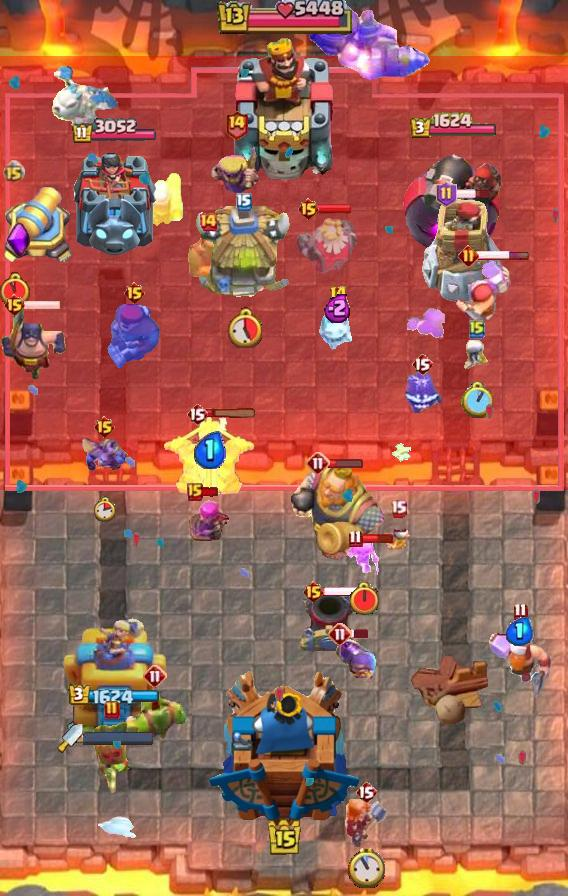arrows: (210, 145, 262, 195)
bar: (61, 615, 166, 731)
bat: (316, 303, 360, 353)
clock: (215, 0, 353, 36)
electro-spirit: (193, 431, 226, 469), (324, 293, 352, 323), (506, 617, 534, 646)
elixir: (347, 847, 384, 889), (226, 307, 261, 348), (347, 581, 381, 617), (461, 382, 493, 418), (0, 272, 30, 308), (93, 496, 116, 522)
emote: (322, 585, 377, 598), (476, 250, 530, 261), (206, 409, 258, 420), (455, 188, 493, 200), (24, 299, 61, 311), (317, 203, 353, 215), (328, 458, 364, 469), (360, 532, 394, 543), (200, 486, 219, 498), (350, 628, 370, 639)
evolution-symbol: (178, 494, 230, 550)
firecracker-evolution: (335, 637, 377, 679)
flying-machine: (121, 692, 189, 748), (187, 232, 229, 282)
giant-skeleton: (283, 460, 391, 564)
goblin: (346, 536, 382, 576)
goblin-barrel: (82, 721, 142, 797)
heal-spirit: (382, 523, 414, 555), (463, 340, 491, 372)
hog-rider: (342, 799, 390, 849)
king-tower: (207, 669, 361, 826), (228, 35, 340, 181)
king-tower-bar: (83, 731, 155, 745)
lava-pup: (160, 417, 258, 499)
mighty-miner: (488, 626, 552, 696), (448, 259, 512, 325)
mini-pekka: (41, 65, 121, 127)
monk: (0, 301, 70, 381)
mortar-evolution: (295, 213, 357, 273)
musketeer: (298, 588, 360, 656)
phoenix-small: (105, 302, 163, 372)
prince: (193, 206, 295, 302)
queen-tower: (71, 144, 157, 255)
royal-delivery: (79, 432, 129, 474)
royal-recruit: (0, 180, 78, 270)
selected: (410, 112, 499, 140), (70, 118, 157, 145), (68, 683, 160, 707)
skeleton-king-skill: (6, 221, 32, 257)
spear-goblin: (402, 369, 442, 413)
text: (224, 109, 248, 140), (306, 451, 330, 475), (328, 622, 352, 646), (143, 664, 167, 688), (296, 197, 319, 221), (122, 281, 145, 305), (3, 293, 26, 317), (93, 415, 116, 439), (303, 580, 326, 604), (435, 181, 456, 207), (3, 160, 26, 183), (411, 352, 433, 376), (186, 402, 208, 426), (355, 780, 377, 804), (458, 245, 479, 266), (198, 212, 218, 232), (328, 285, 347, 305), (389, 498, 406, 517), (469, 319, 485, 339), (104, 700, 120, 720), (236, 193, 252, 211), (187, 483, 203, 501), (349, 528, 364, 547), (513, 603, 527, 622)
tombstone: (143, 170, 185, 228)
tower-bar: (403, 138, 503, 256)
wizard: (307, 3, 431, 81)
zappy: (420, 199, 502, 305)
